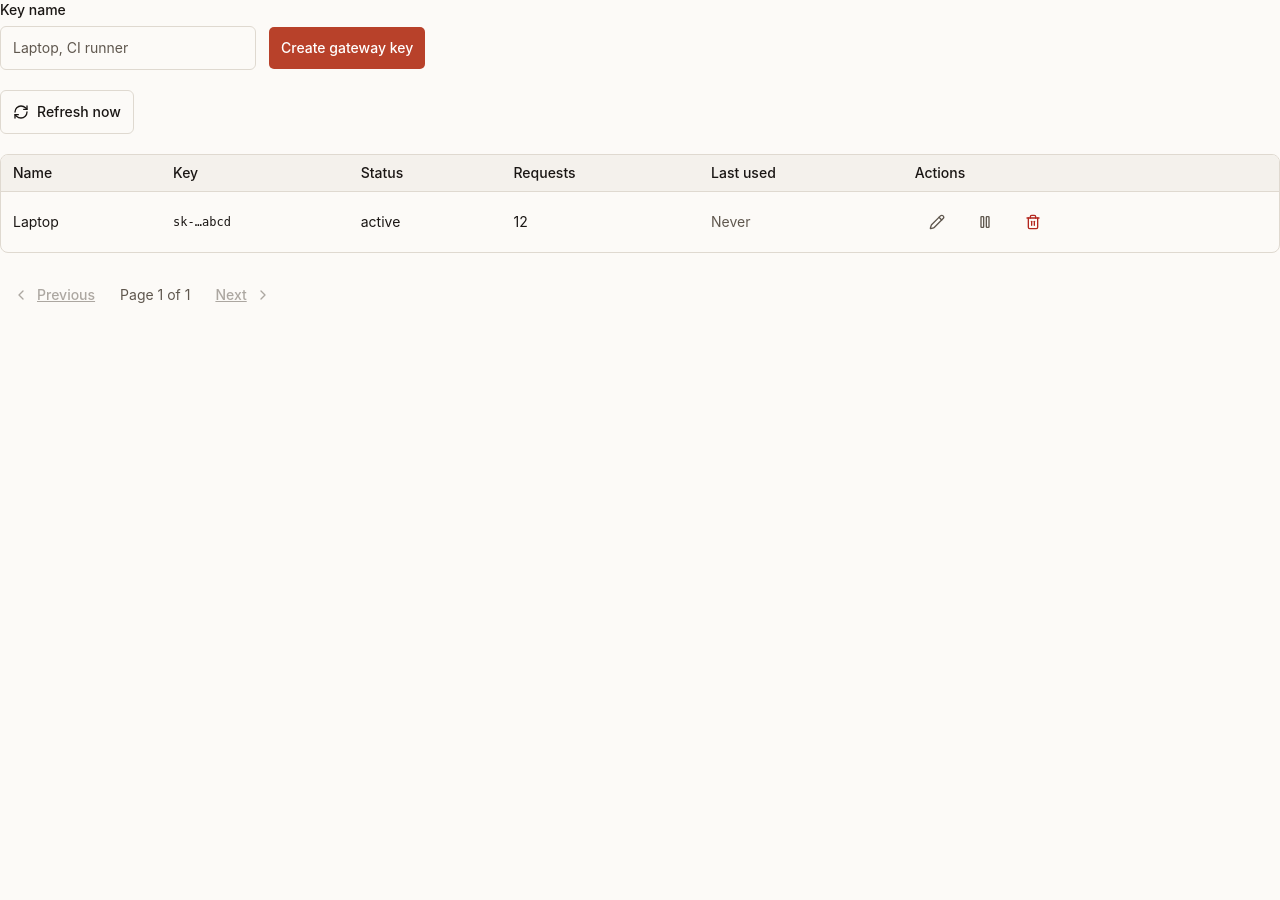
Scenario: gateway key row actions › reports a deletion the gateway refused, instead of looking like it worked
Expected: the table is shown, [1, 155, 1279, 252]
Click the button named "Delete": (1033, 222) [1011, 200, 1055, 244]
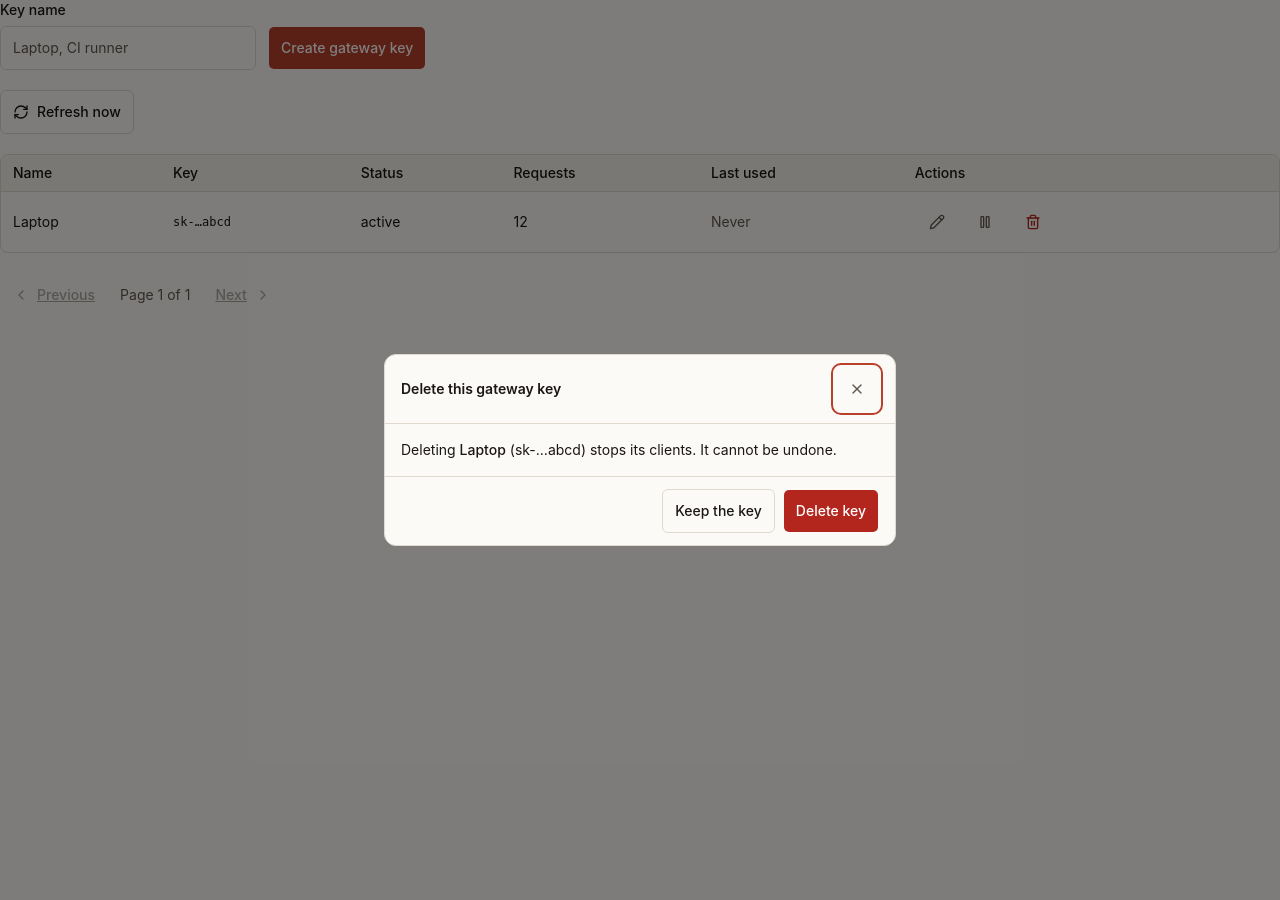
Click the button "Delete key": (831, 511) [783, 489, 879, 533]
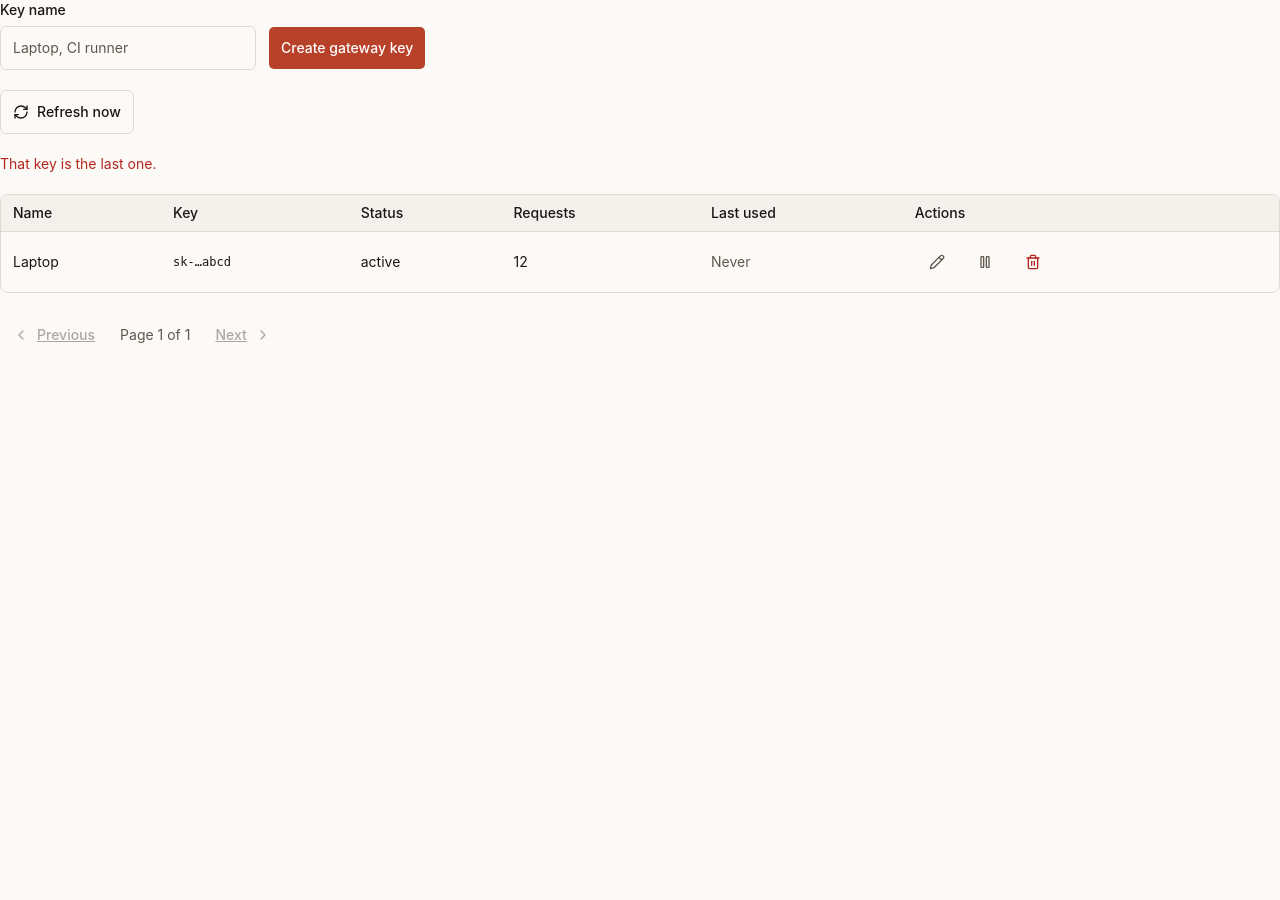
Expected: the message reads "That key is the last one.", [0, 155, 156, 172]
